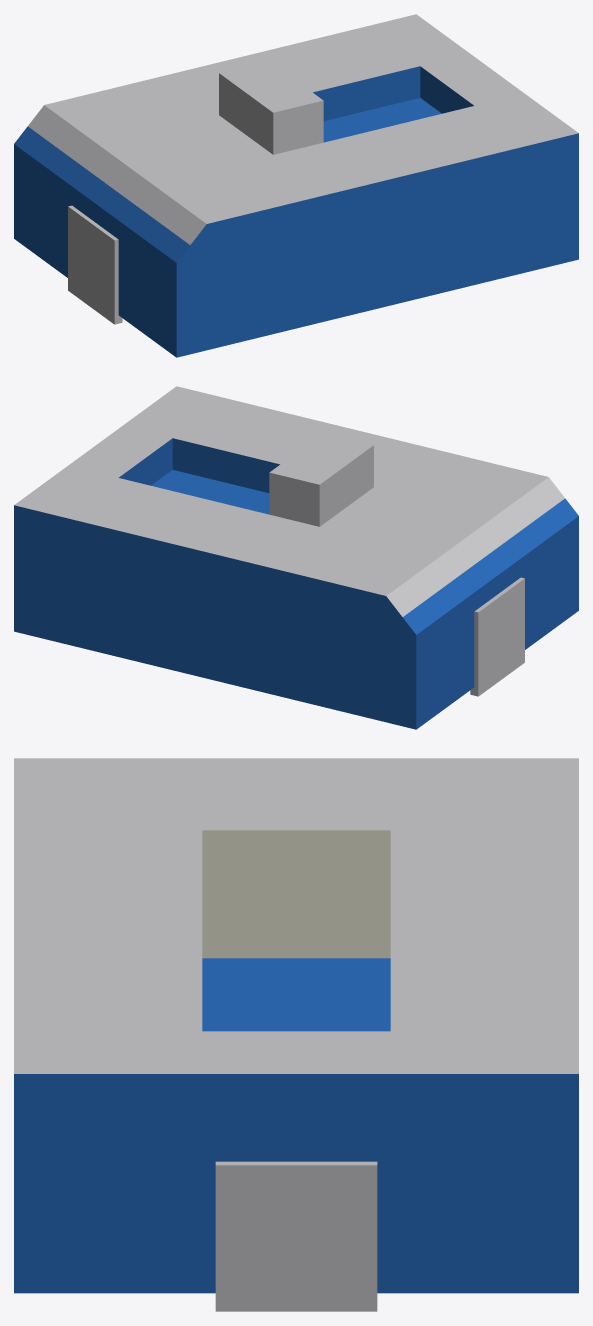
File: kc-sw_spst_evqpe1.glb
3 renders of one model, top to bottom at view 1: azimuth 30°, elevation 25°; view 2: azimuth 150°, elevation 25°; view 3: azimuth 270°, elevation 25°, orthographic. The views are drawn at different scales.
Visible parts, largest first — view 1: 0_0.16666666666666666_0.5_0, 0.5833333333333334_0.5833333333333334_0.5833333333333334_0.8; view 2: 0_0.16666666666666666_0.5_0, 0.5833333333333334_0.5833333333333334_0.5833333333333334_0.8; view 3: 0.5833333333333334_0.5833333333333334_0.5833333333333334_0.8, 0_0.16666666666666666_0.5_0, 0.75_0.75_0.6666666666666666_0.
Boxes of the visible parts, <box> form: 0_0.16666666666666666_0.5_0: <box>14,66,578,357</box>; 0.5833333333333334_0.5833333333333334_0.5833333333333334_0.8: <box>28,14,578,324</box>; 0_0.16666666666666666_0.5_0: <box>14,438,578,729</box>; 0.5833333333333334_0.5833333333333334_0.5833333333333334_0.8: <box>14,386,564,696</box>; 0.5833333333333334_0.5833333333333334_0.5833333333333334_0.8: <box>14,758,578,1311</box>; 0_0.16666666666666666_0.5_0: <box>14,958,578,1293</box>; 0.75_0.75_0.6666666666666666_0: <box>202,830,390,958</box>.
Size of the model in its own units: 0.51 by 0.21 by 0.35.
